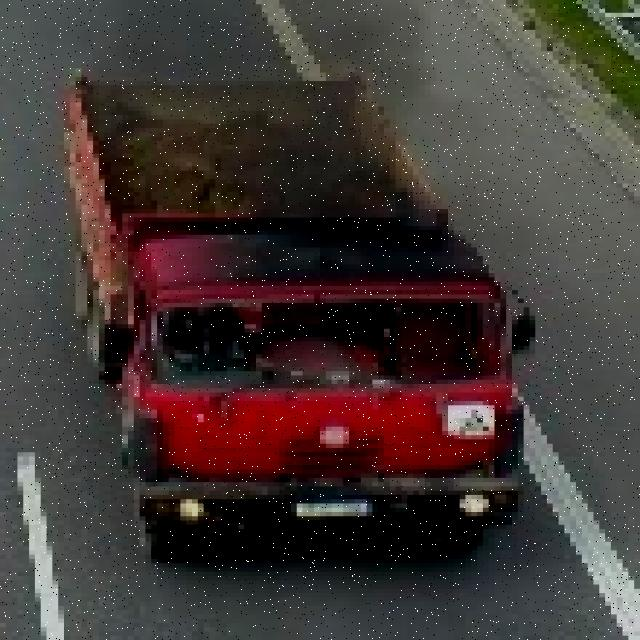truck: (58, 69, 541, 568)
